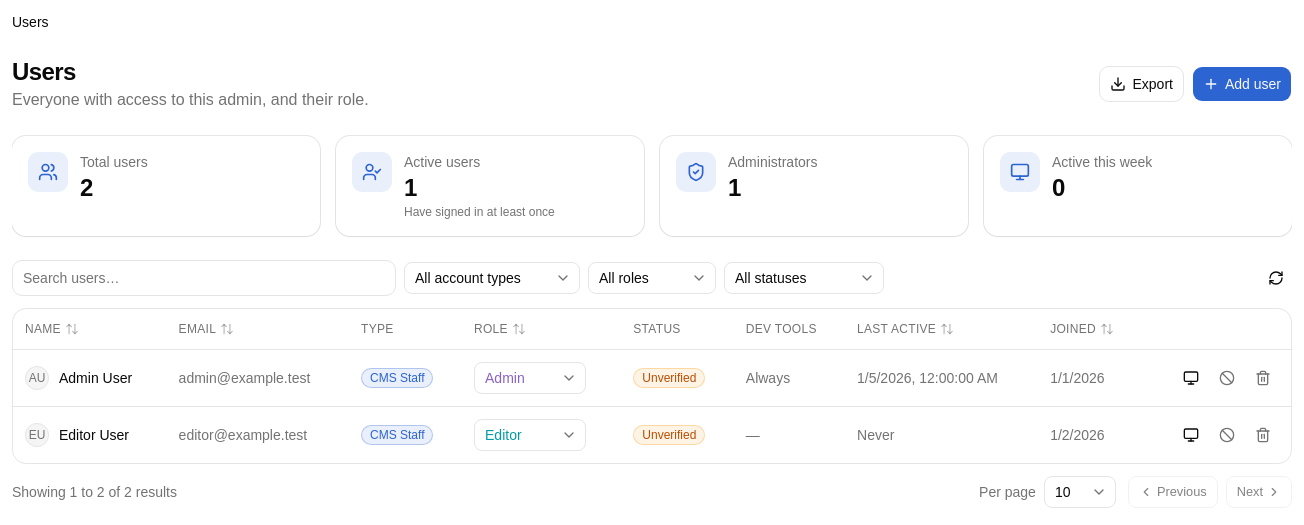
Test: UsersPage › filters the list by role
Expected: the text "Editor User" is shown, [59,424,129,444]
Click the dropdown named "Filter by role" at (652, 278), box [588,262,716,294]
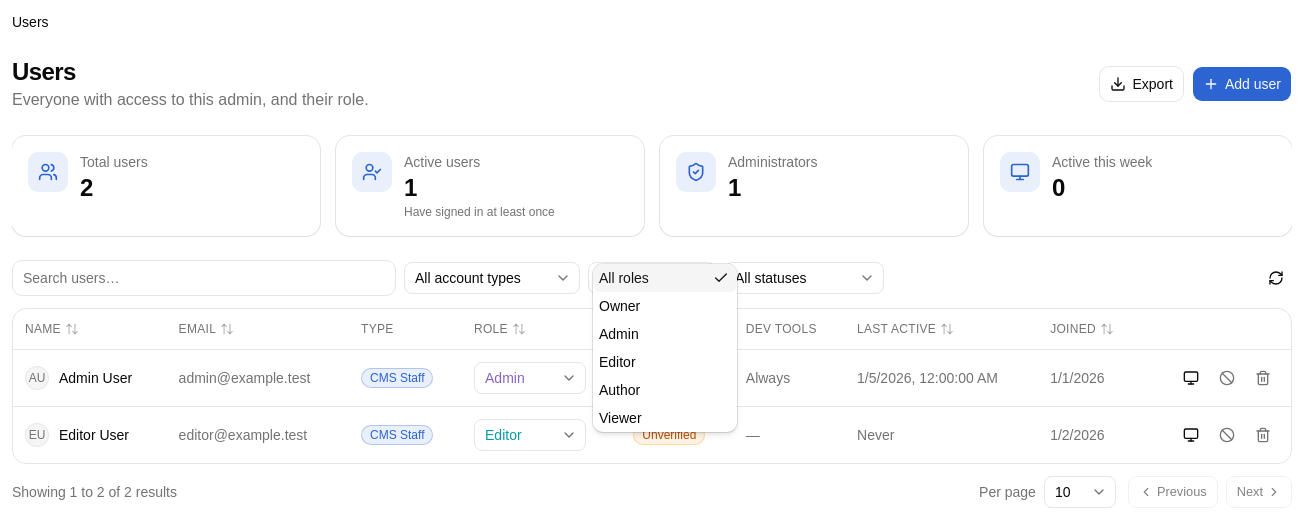
Click the option "Editor" at (617, 362), box [599,354,636,370]
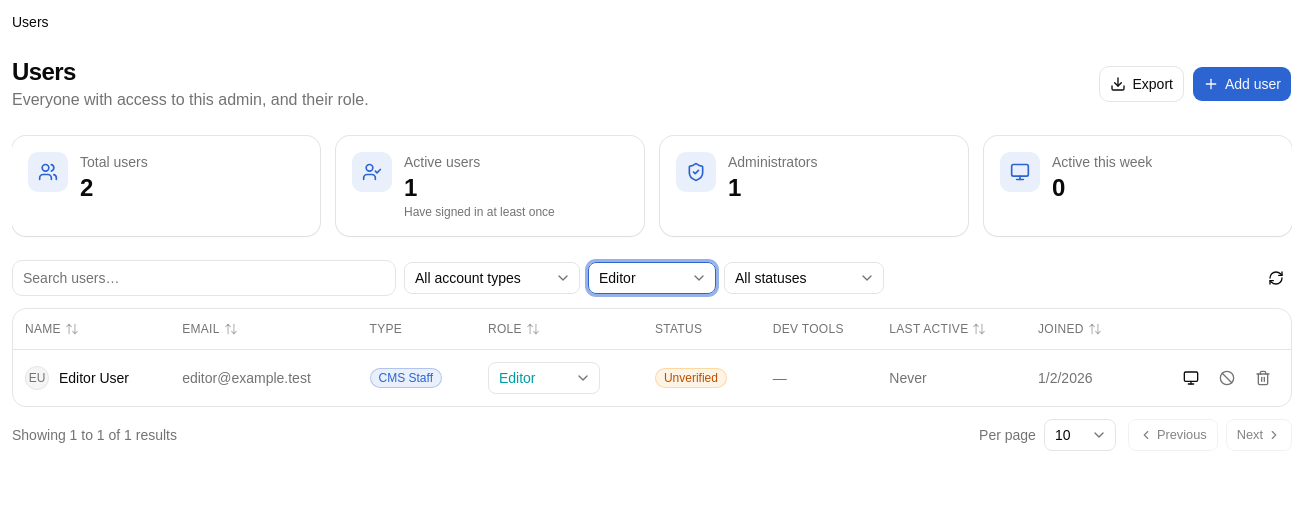
Result: the text "Admin User" is gone
Result: the text "Editor User" is shown at [59,368,129,388]
